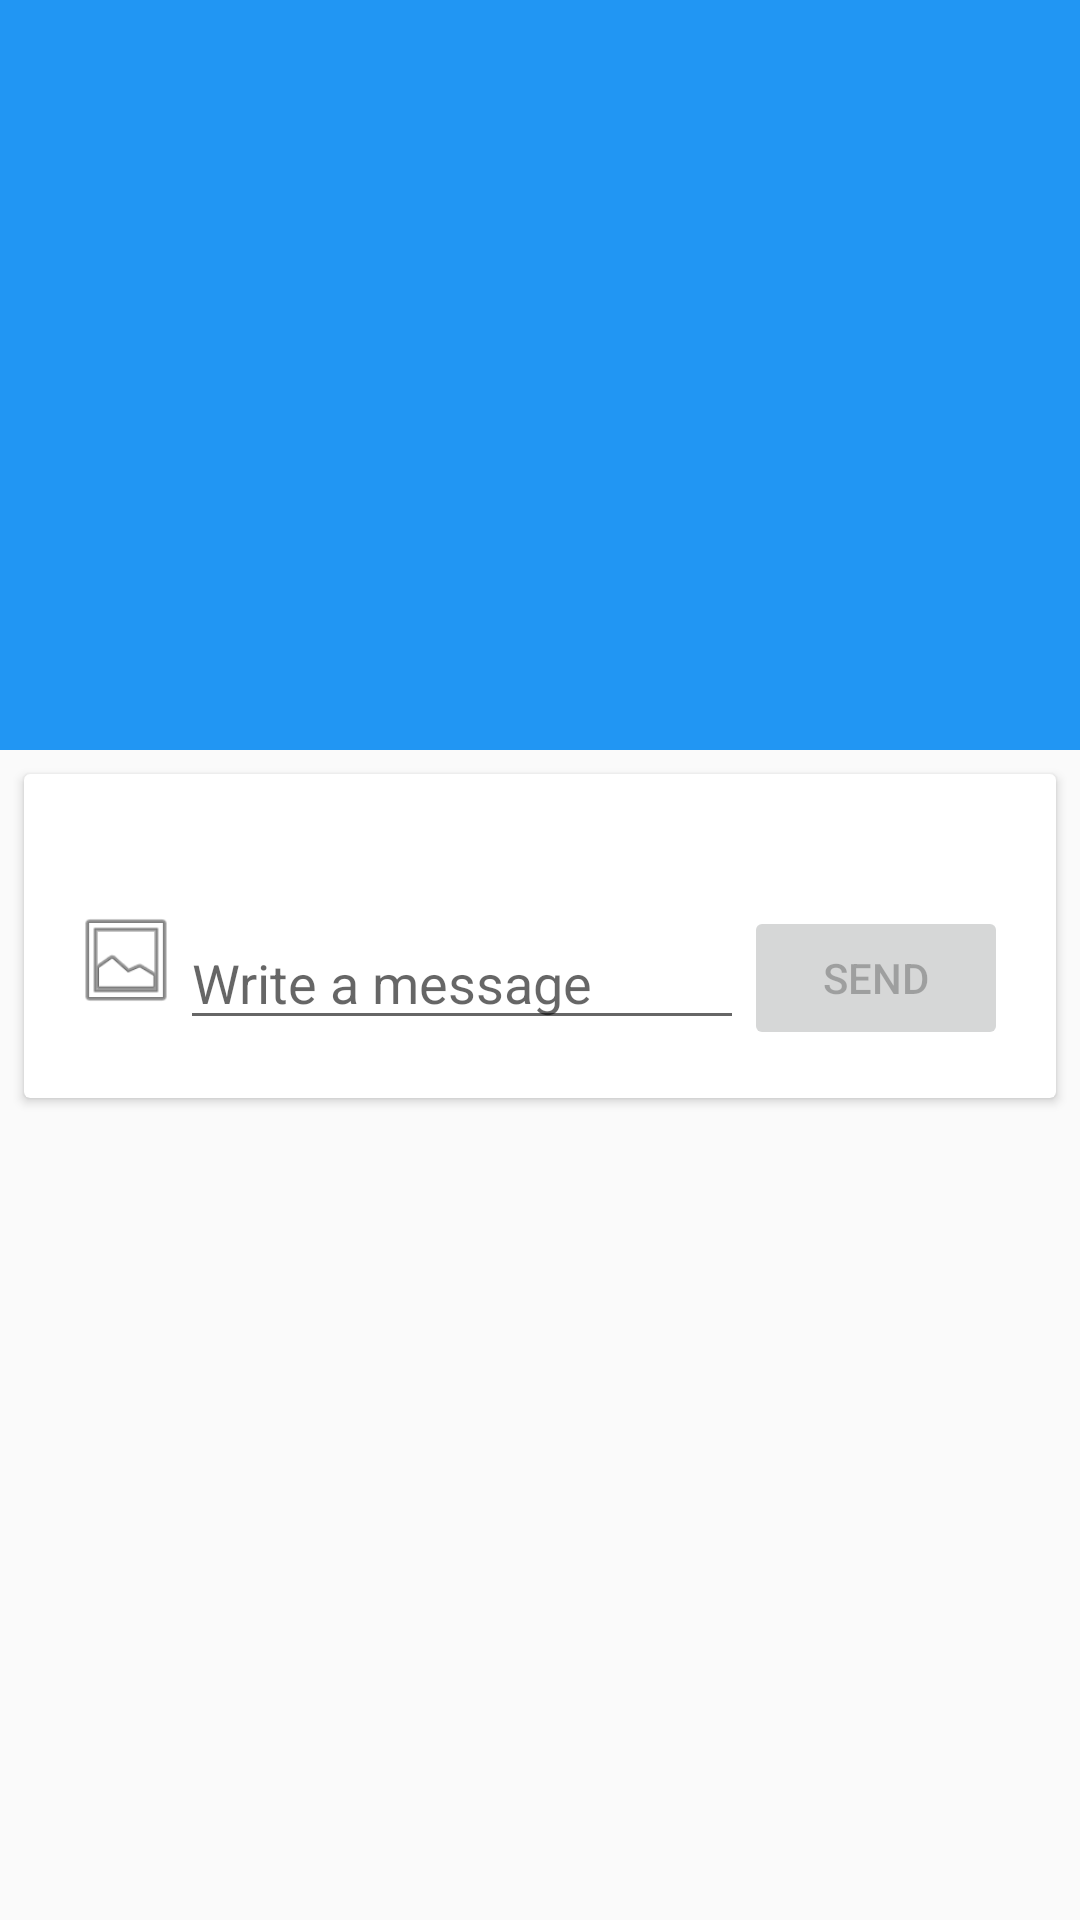

Where icons sit on this 1080w x 1920h app screen, as [left=x1, top=y1, right=x2, bottom=y2]:
Image picker: [left=85, top=919, right=167, bottom=1001]
